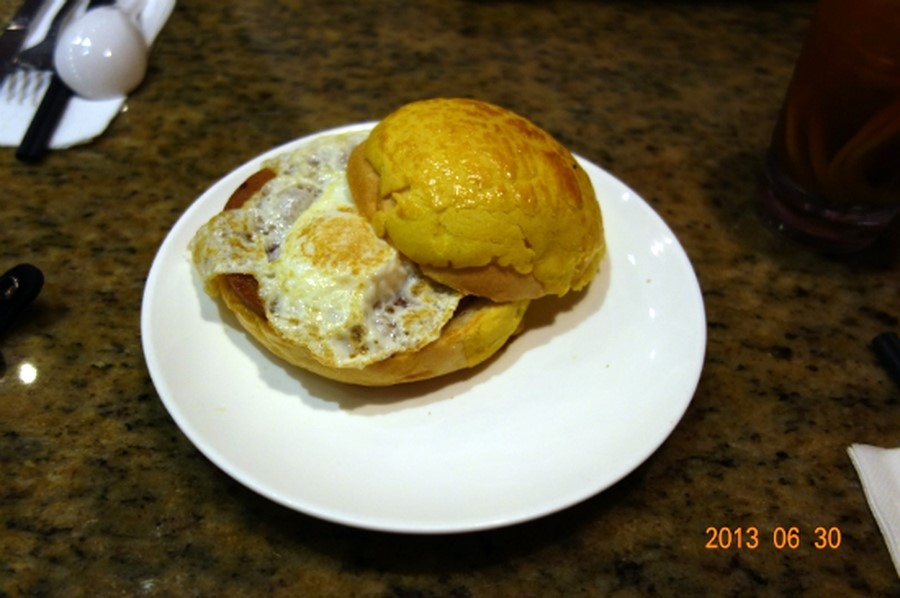fried egg: (254, 192, 420, 351)
slice of bread: (368, 106, 623, 306)
